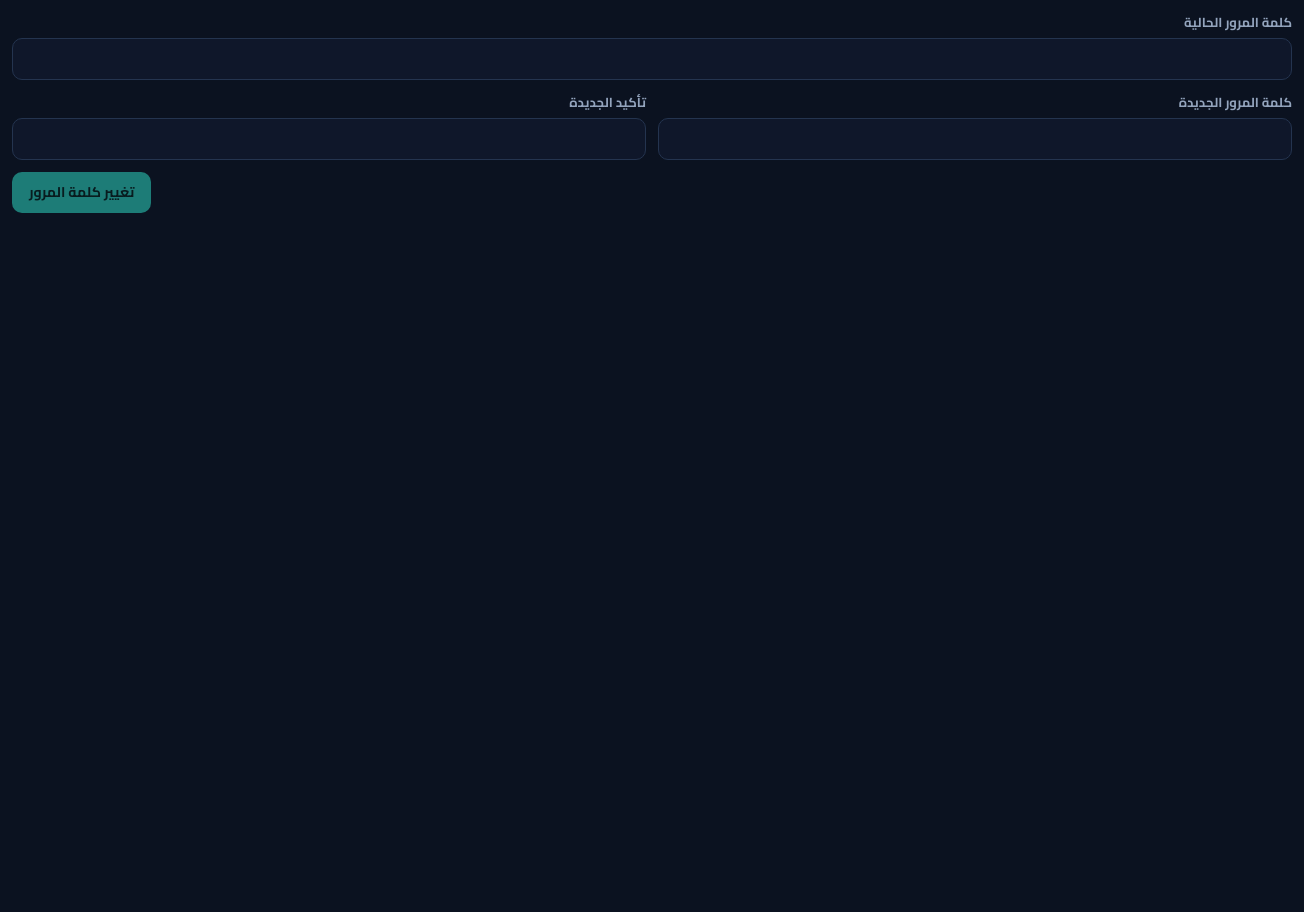
Test: الإعدادات — تغيير كلمة المرور (كان الزر يعرض تلميحاً فقط) › رفض الحفظ من العملية الرئيسية يُعرض خطأً
Type "قديمة-صحيحة" into the password field below "كلمة المرور الحالية" at [652, 59], box [12,38,1292,80]
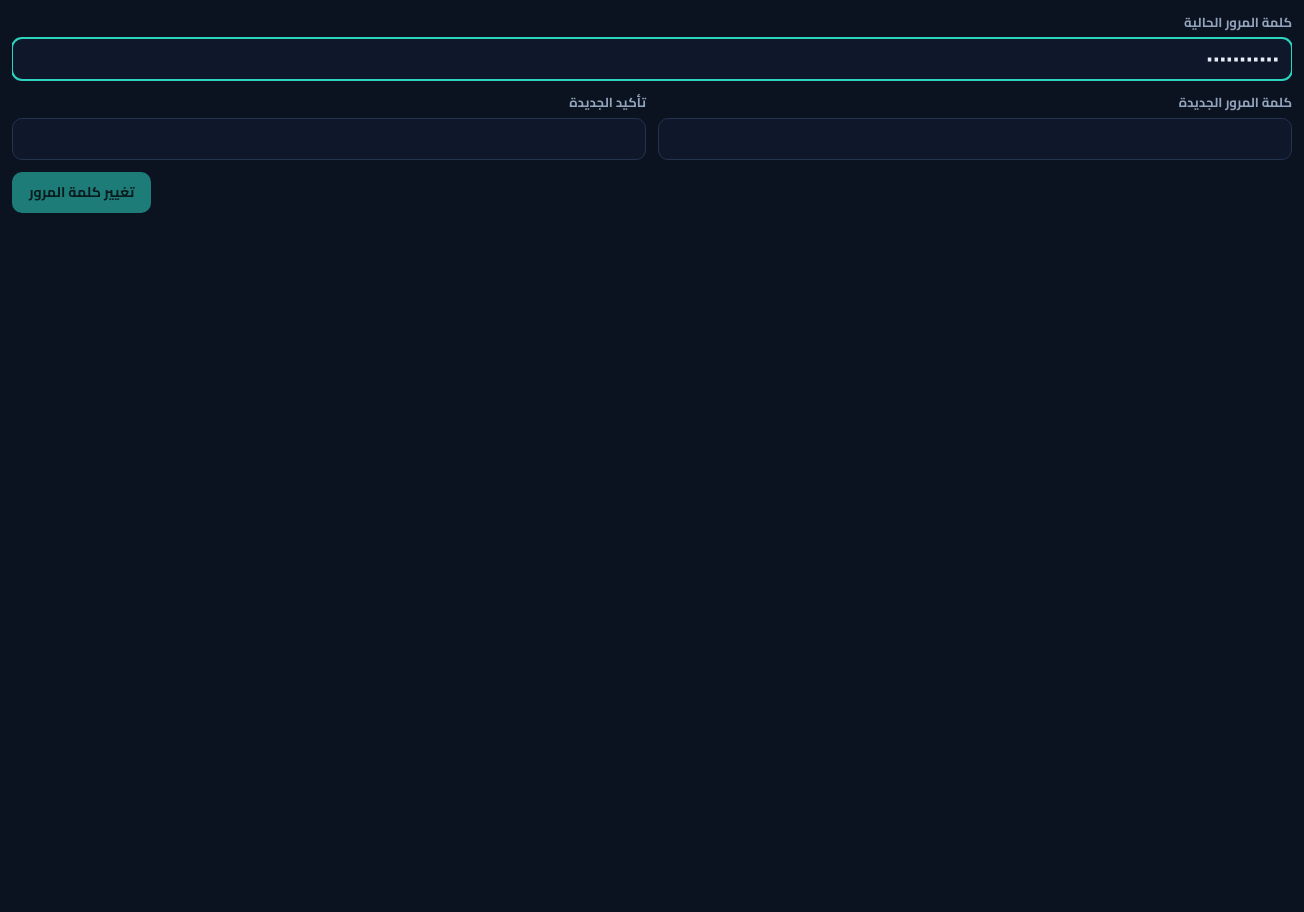
Type "جديدة-قوية-1" into the password field below "كلمة المرور الجديدة" at [975, 139], box [658,118,1292,160]
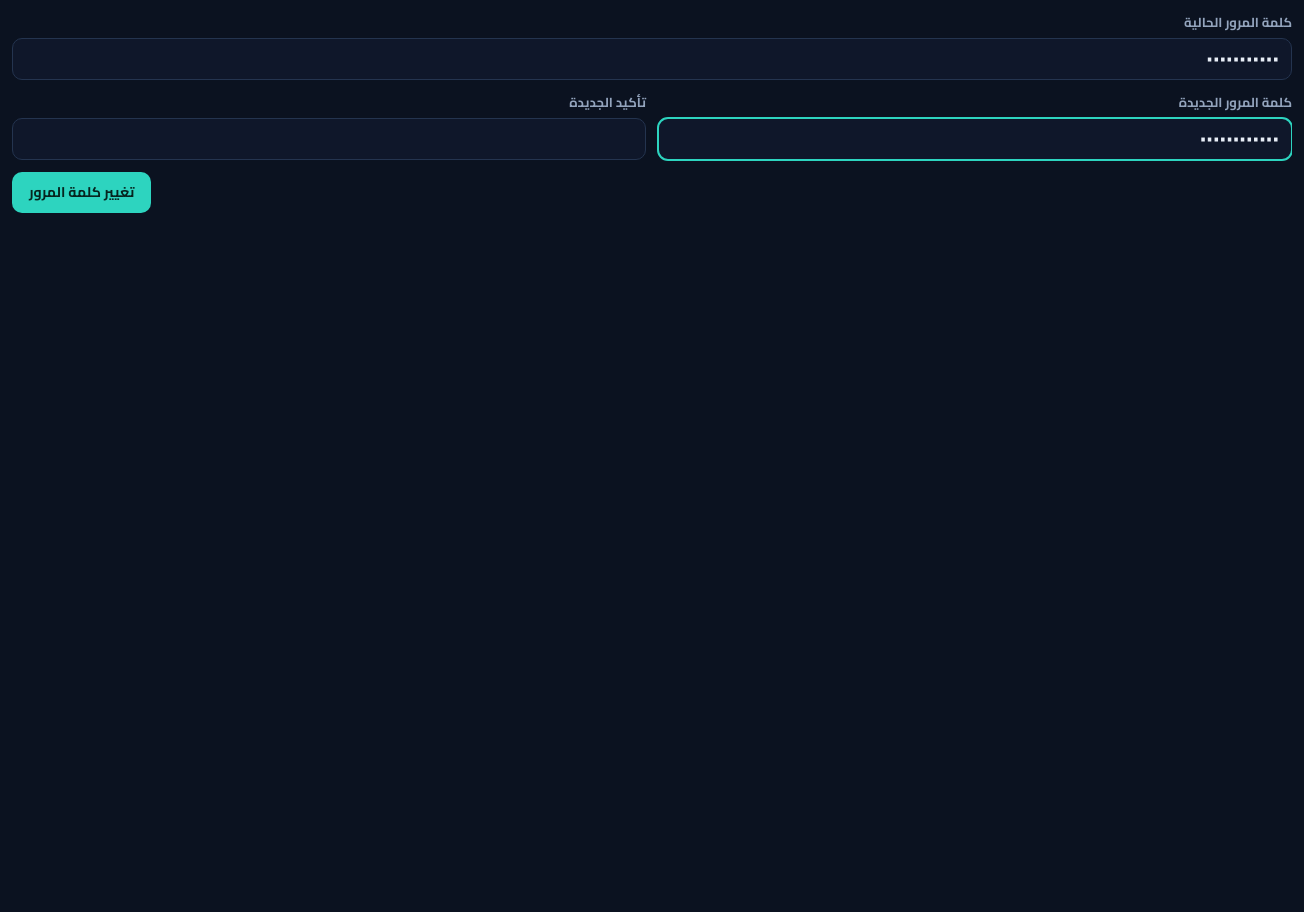
Type "جديدة-قوية-1" into the password field below "تأكيد الجديدة" at [329, 139], box [12,118,646,160]
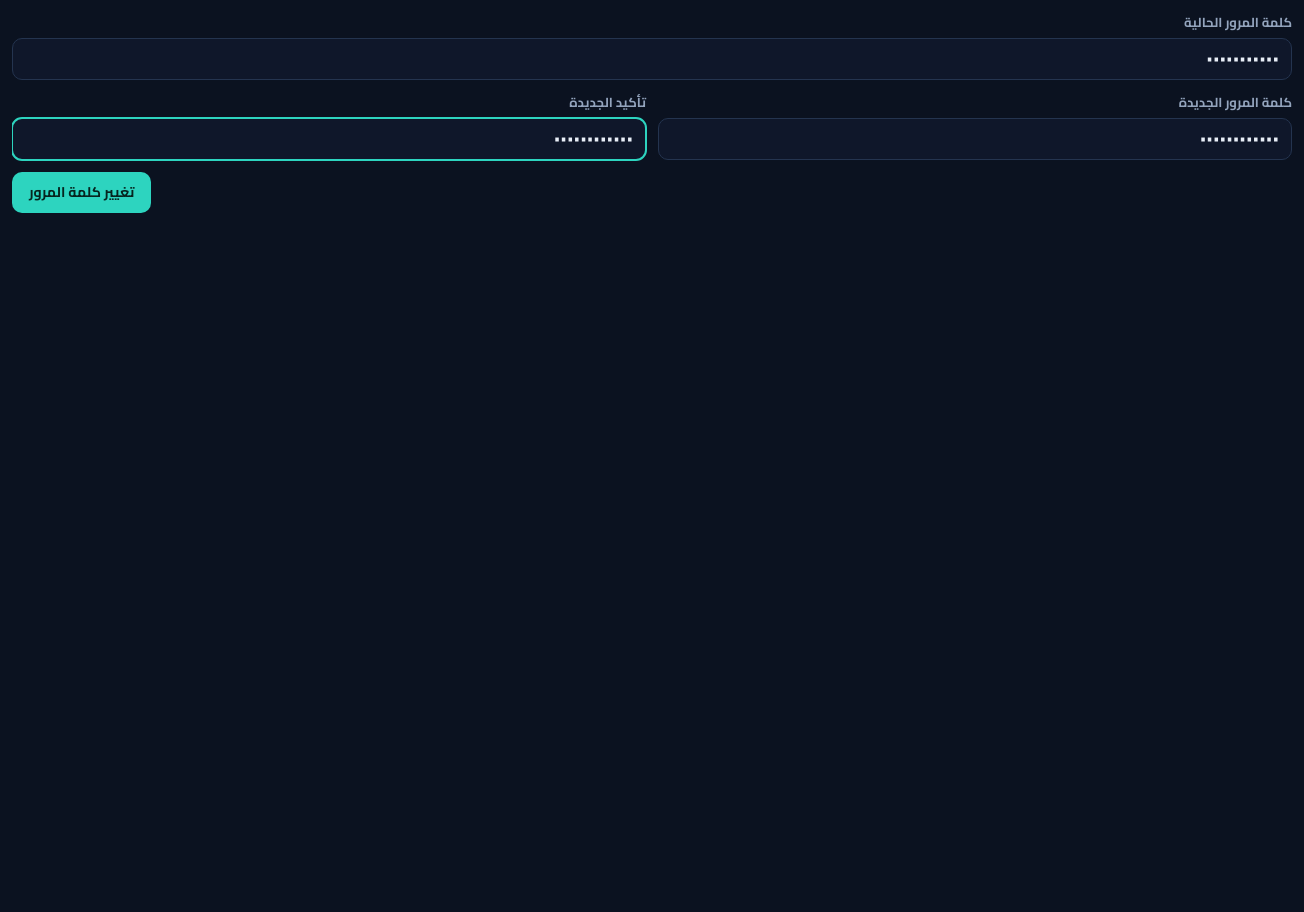
Click the button "تغيير كلمة المرور" at [82, 193], box [12,172,152,213]
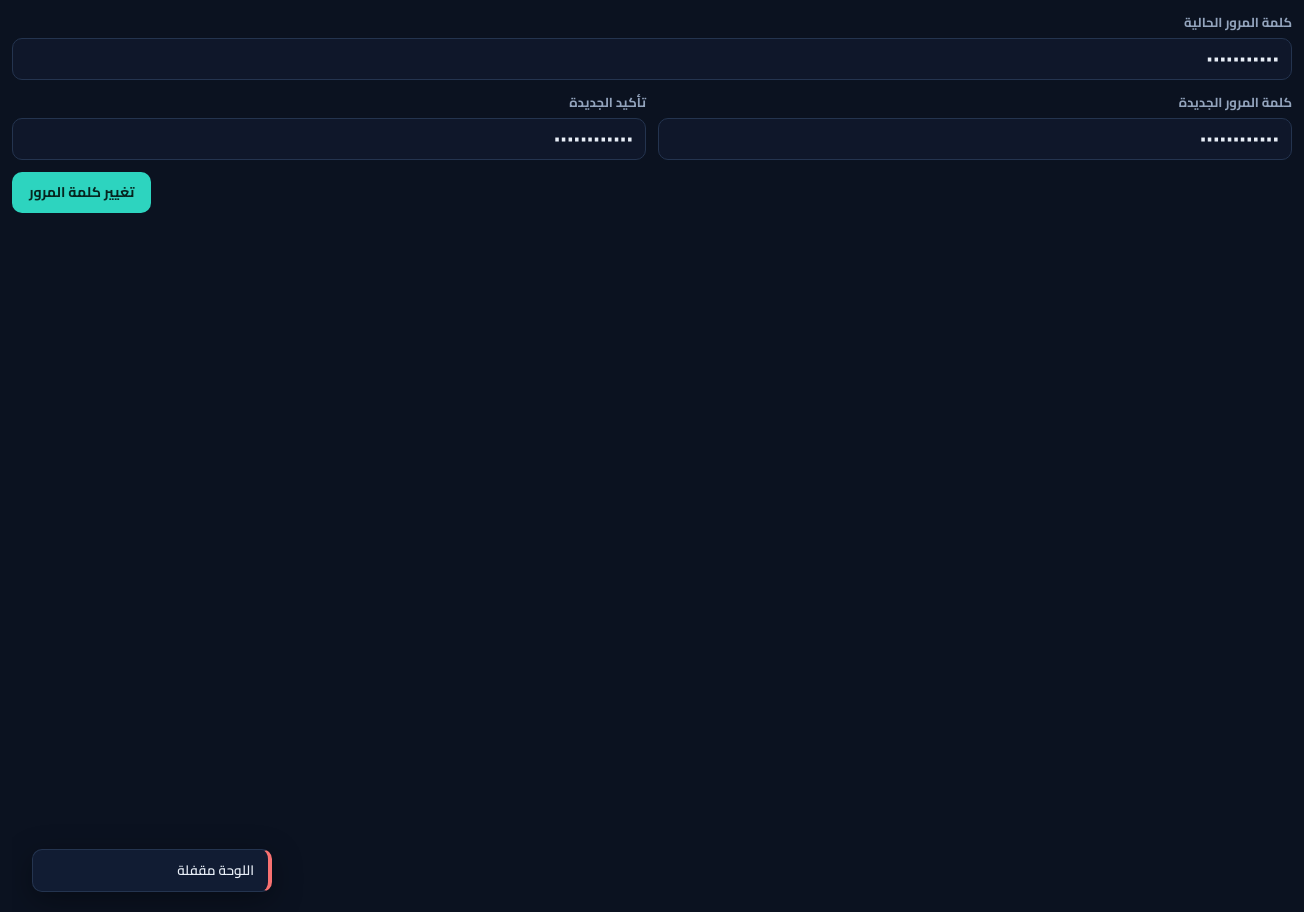
Result: the text "اللوحة مقفلة" is shown at [32,849,272,892]
